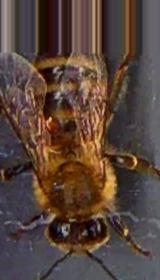varroa_mite: (40, 108, 66, 134)
